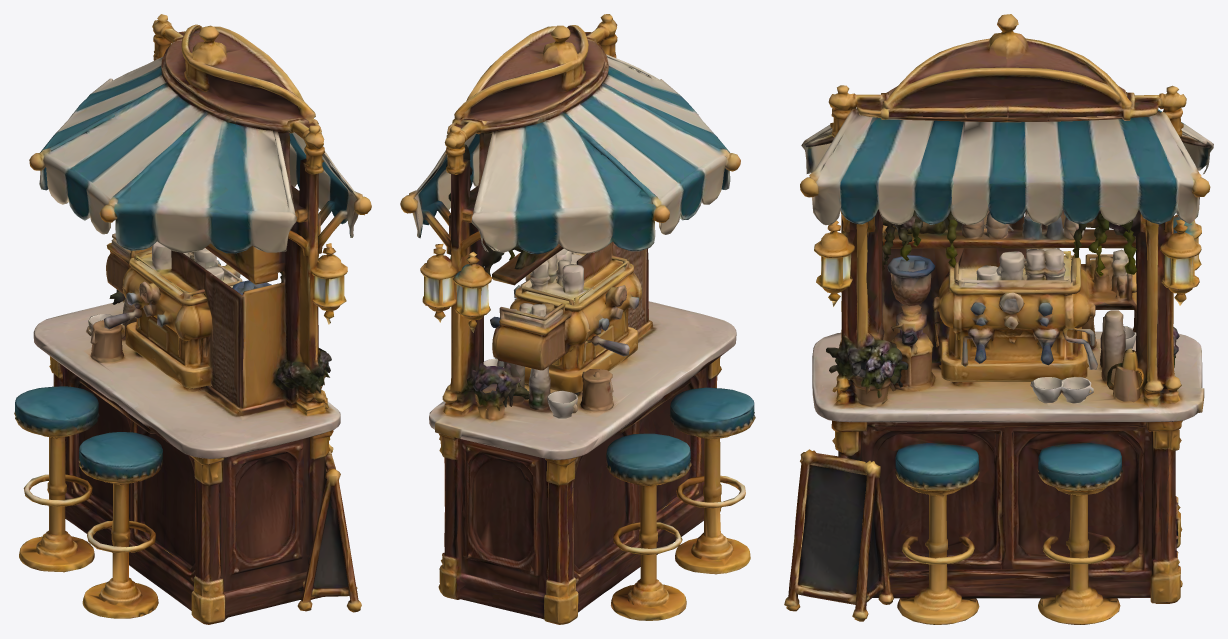
File: prop_kiosk.glb
3 views of the same model, side by side, from view 1: azimuth 30°, elevation 25°; view 2: azimuth 150°, elevation 25°; view 3: azimuth 270°, elevation 25° (orthographic). The views are drawn at different scales.
Parts seen in each view (by area): view 1: tripo_node_69f1f581-9e15-4e2c-aa24-01b29b35a9b8; view 2: tripo_node_69f1f581-9e15-4e2c-aa24-01b29b35a9b8; view 3: tripo_node_69f1f581-9e15-4e2c-aa24-01b29b35a9b8.
Boxes of the visible parts, bbox=[...] form: tripo_node_69f1f581-9e15-4e2c-aa24-01b29b35a9b8: bbox=[14, 14, 371, 624]; tripo_node_69f1f581-9e15-4e2c-aa24-01b29b35a9b8: bbox=[400, 14, 755, 624]; tripo_node_69f1f581-9e15-4e2c-aa24-01b29b35a9b8: bbox=[784, 14, 1213, 624].
Size of the model in its own units: 0.4529 by 0.9788 by 0.6657.
Materials: 1 (1 with a texture image).
